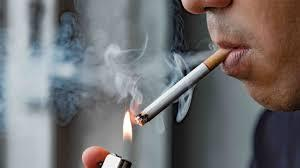smoke: (136, 45, 233, 126)
